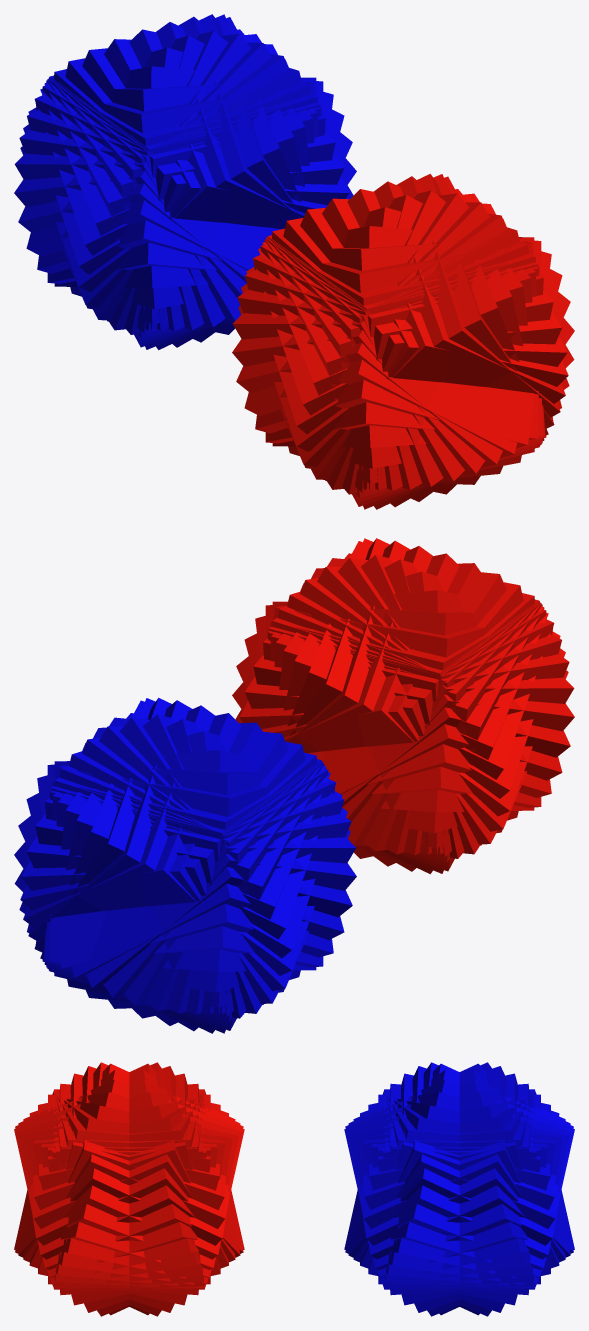
File: colored_cube_animated.glb
The picture shows the model from 3 angles, top to bottom: view 1: azimuth 30°, elevation 25°; view 2: azimuth 150°, elevation 25°; view 3: azimuth 270°, elevation 25°; orthographic projection. The views are drawn at different scales.
Parts seen in each view (by area): view 1: Cube002 (×28), Cube003 (×27); view 2: Cube003 (×28), Cube002 (×27); view 3: Cube002 (×28), Cube003 (×28).
Part boxes in pixels (bbox=[...]): Cube002 (×28): bbox=[232, 173, 574, 509]; Cube003 (×27): bbox=[14, 14, 356, 350]; Cube003 (×28): bbox=[14, 697, 356, 1033]; Cube002 (×27): bbox=[232, 538, 574, 874]; Cube002 (×28): bbox=[14, 1062, 244, 1316]; Cube003 (×28): bbox=[344, 1062, 574, 1316].
Bounding box in the file's own units: 3.18 × 3.44 × 7.44.
